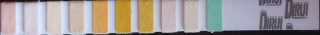color 1: (2, 4, 14, 32)
color 10: (208, 1, 220, 28)
color 2: (25, 4, 37, 33)
color 3: (48, 3, 60, 32)
color 4: (70, 3, 82, 32)
color 5: (92, 1, 106, 31)
color 6: (116, 2, 129, 31)
color 7: (139, 2, 152, 31)
color 8: (162, 2, 174, 30)
color 9: (185, 2, 197, 30)
